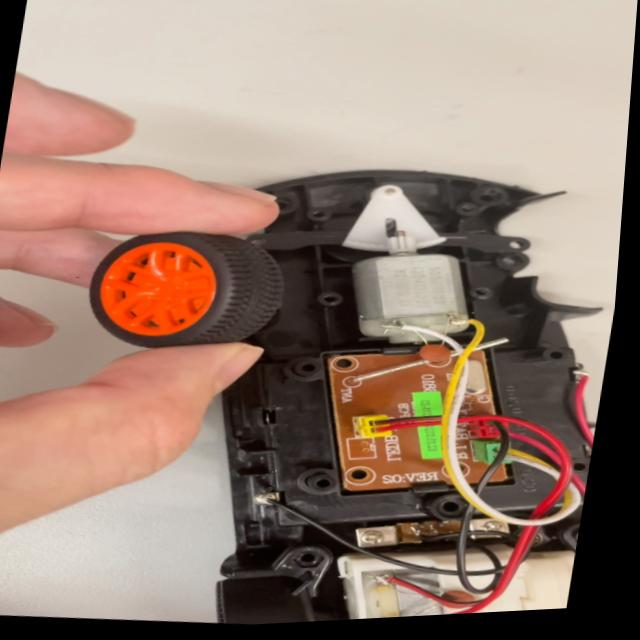motor: (338, 231, 482, 366)
wheel: (71, 203, 309, 368)
